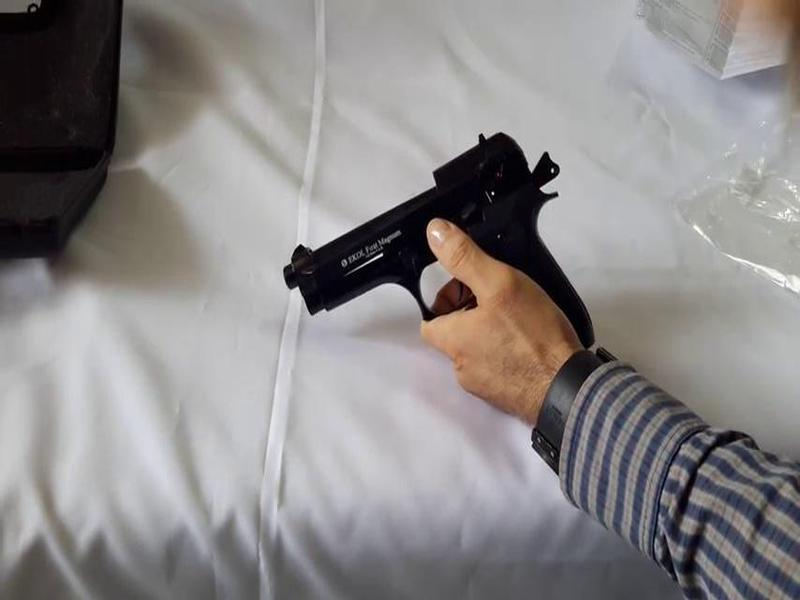Pistola: (268, 116, 617, 364)
